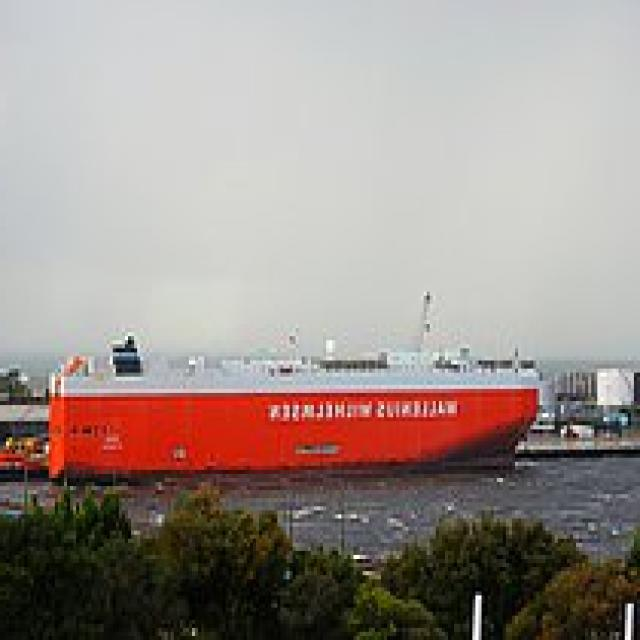Carrier: (46, 324, 546, 482)
